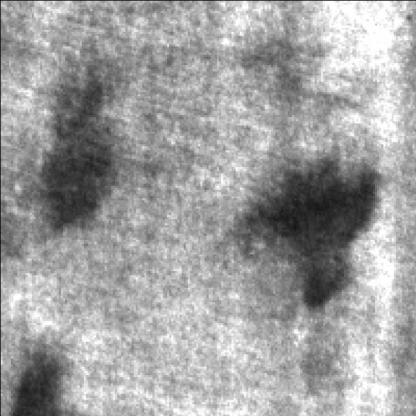patches: (249, 154, 386, 304), (46, 71, 121, 223), (15, 337, 79, 414)
